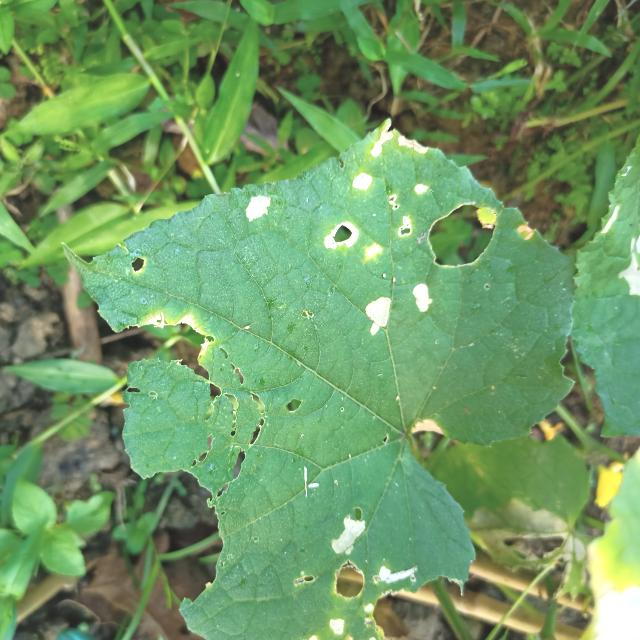disease_cucumber: (240, 130, 430, 268), (280, 501, 430, 640), (358, 278, 444, 337)
